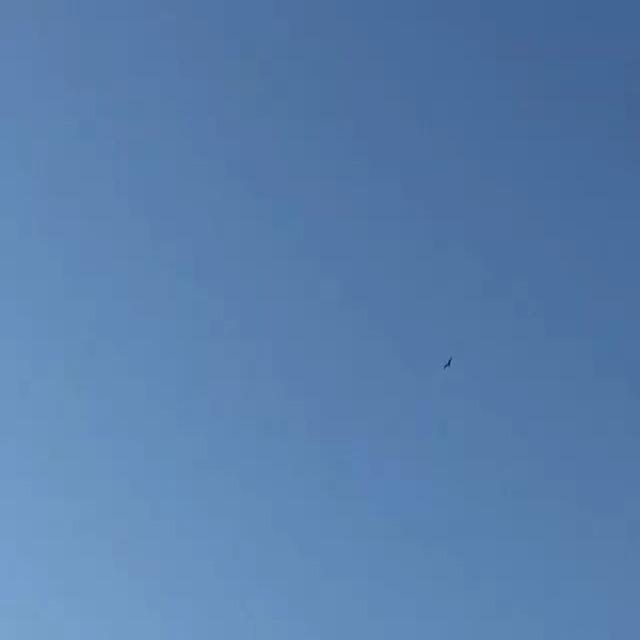bird: (440, 354, 454, 374)
